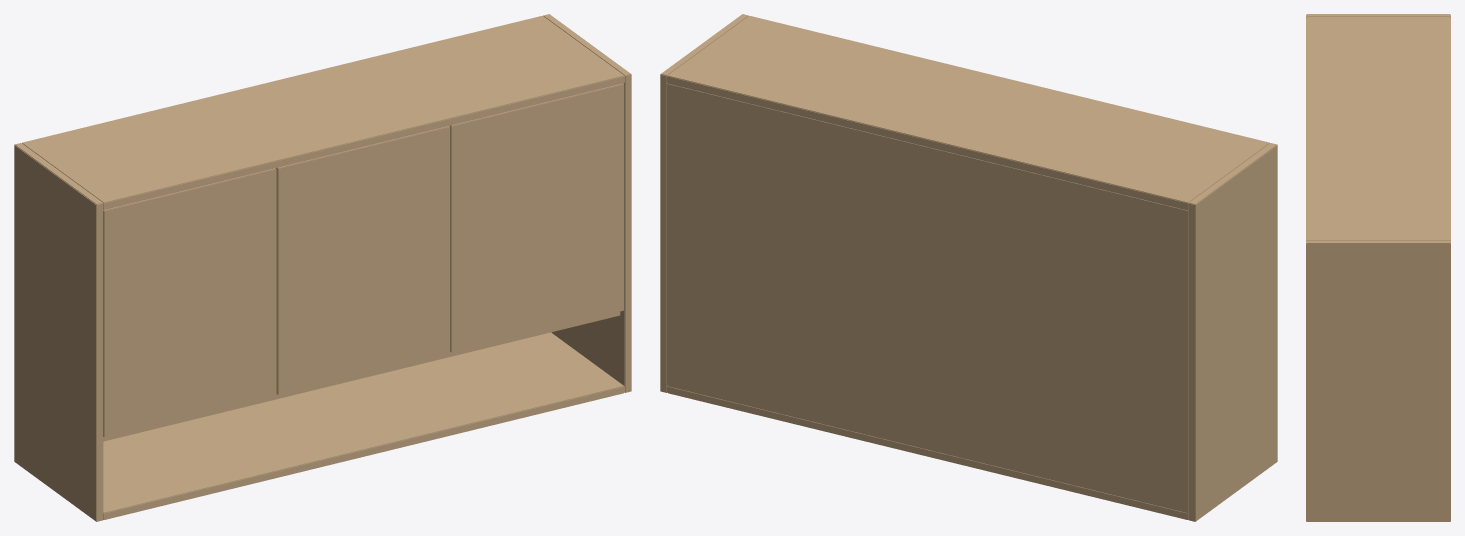
The picture shows the model from 3 angles, left to right: view 1: azimuth 30°, elevation 25°; view 2: azimuth 150°, elevation 25°; view 3: azimuth 270°, elevation 25°; orthographic projection. The views are drawn at different scales.
Visible parts, largest first — view 1: shusio-w3-console-table; view 2: shusio-w3-console-table; view 3: shusio-w3-console-table.
Boxes of the visible parts, box(x1,y1,x2,y2) form: shusio-w3-console-table: box(14, 14, 631, 521); shusio-w3-console-table: box(660, 14, 1277, 521); shusio-w3-console-table: box(1306, 14, 1450, 521).
Bounding box in the file's own units: 1.5 × 0.85 × 0.4.
